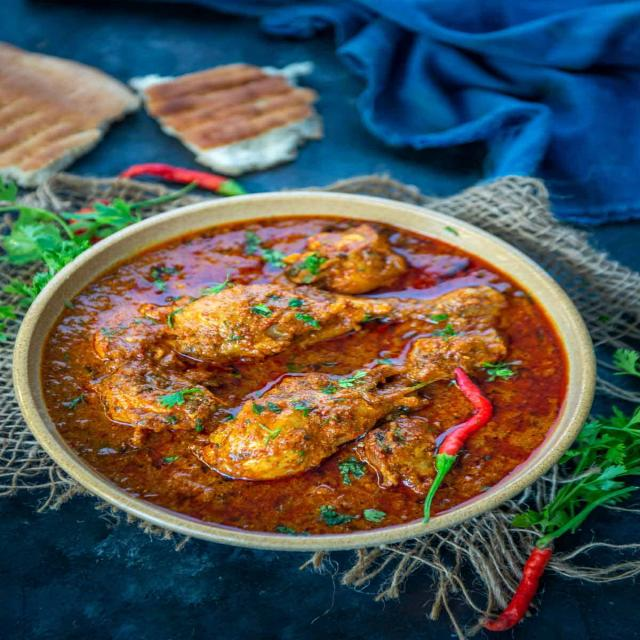Chicken Gravy: (10, 191, 595, 554)
